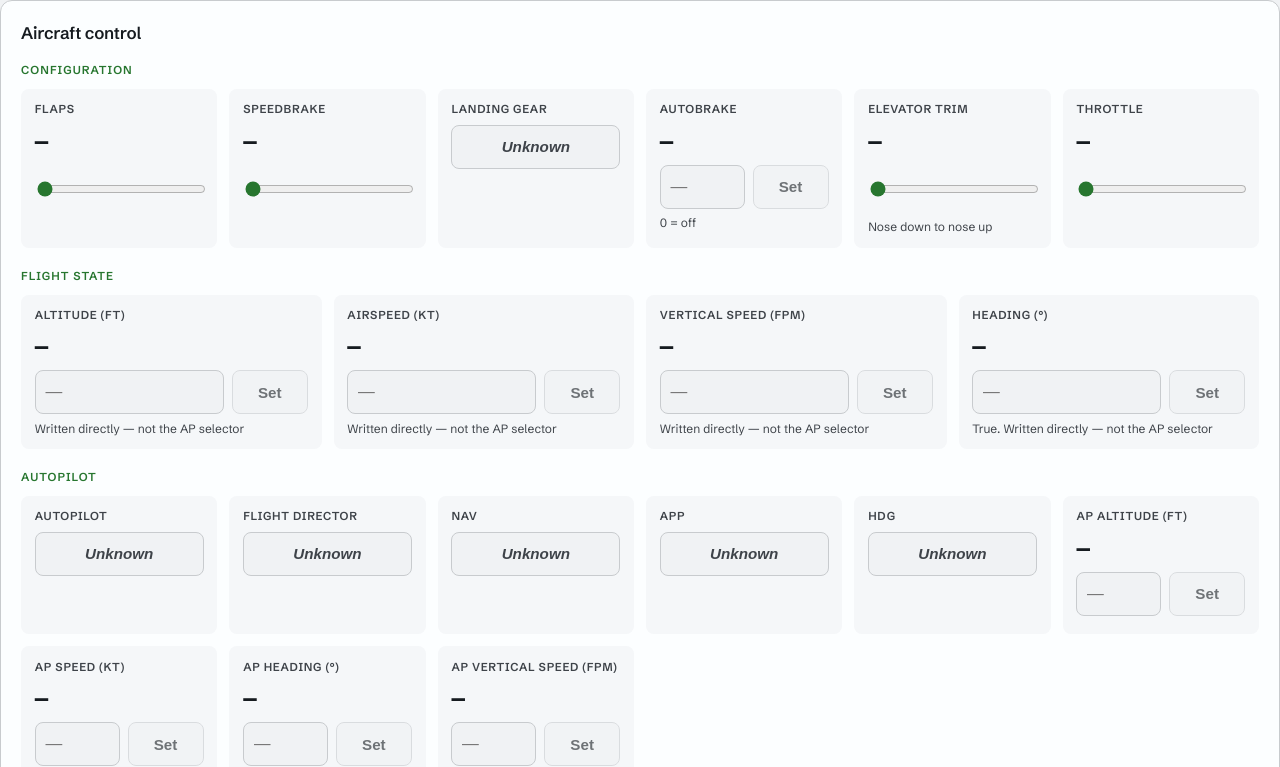
Test: <AircraftControlPanel /> › shows the server's reason when a write is refused, and drops the optimistic value
Click the button named "landing gear": (536, 147) left=452, top=125, right=620, bottom=169
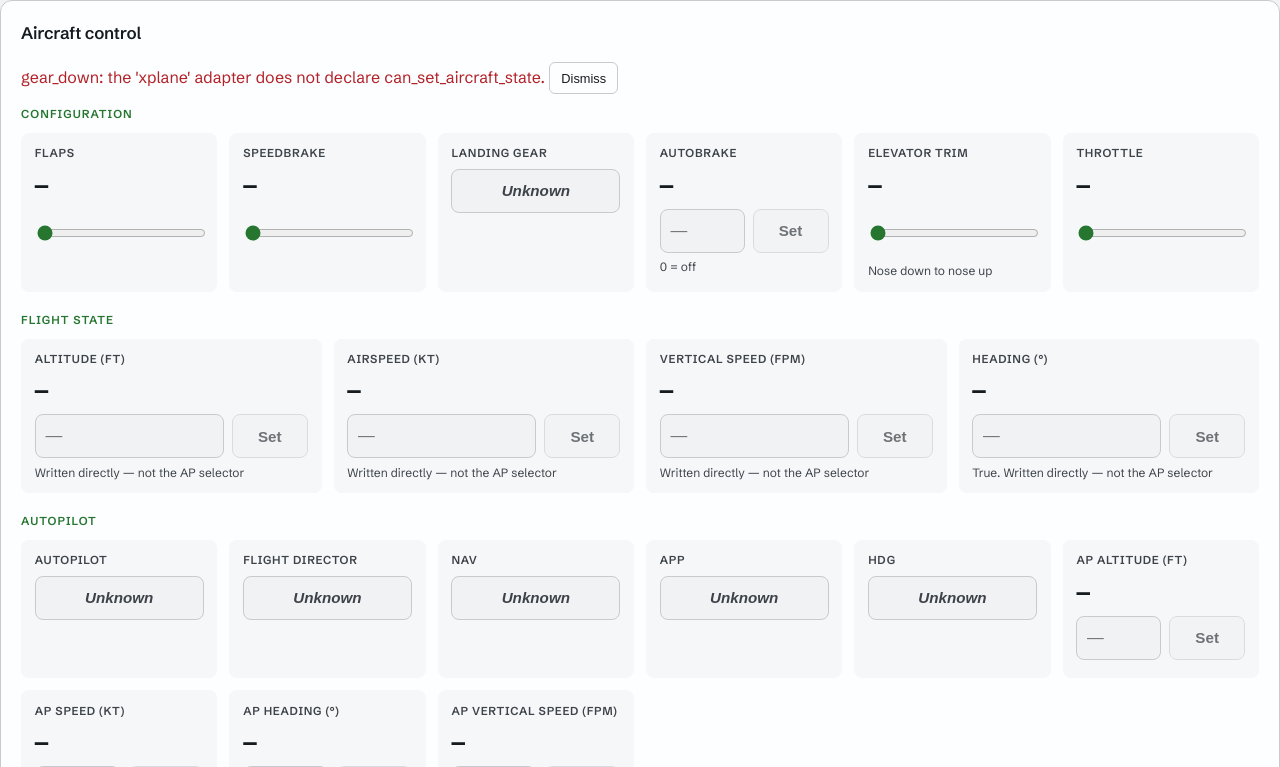
Expected: the button named "landing gear" reads "Unknown", left=452, top=169, right=620, bottom=213
Now the text "does not declare can_set_aircraft_state" is shown, box left=21, top=67, right=545, bottom=87
